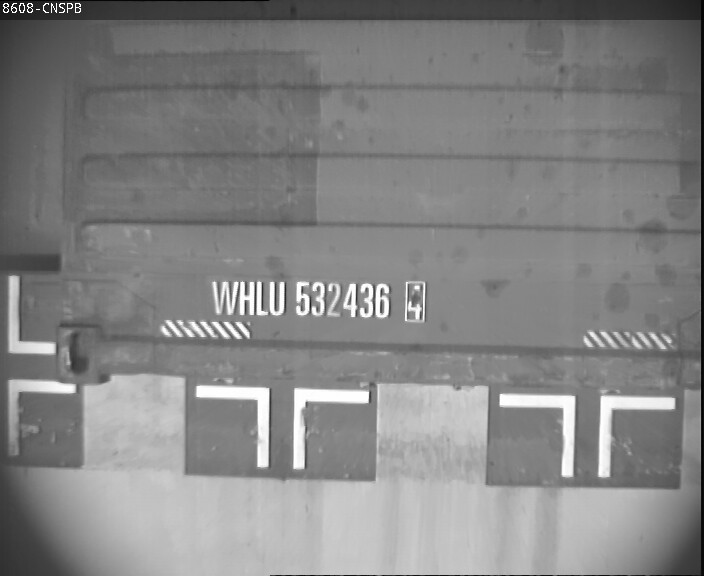groundmarker_1: (194, 383, 369, 469), (499, 392, 674, 478), (6, 276, 75, 455)
